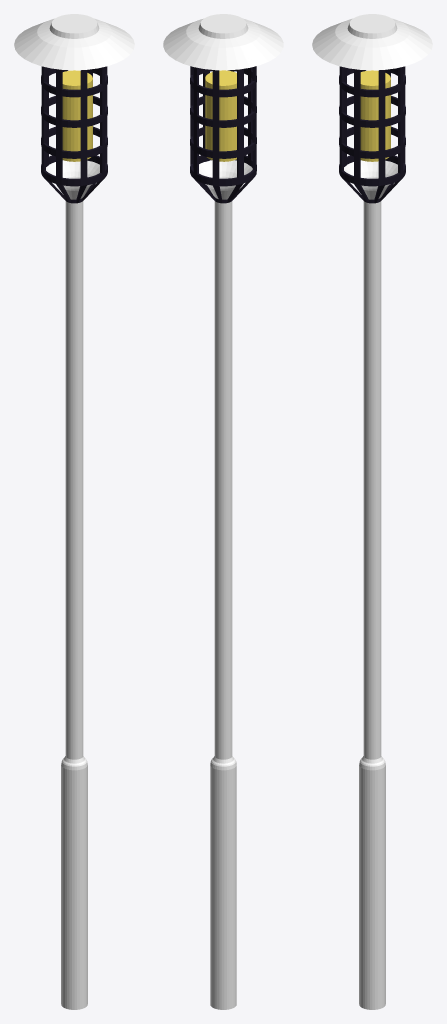
File: lamp_01.glb
3 renders of one model, left to right at view 1: azimuth 90°, elevation 25°; view 2: azimuth 150°, elevation 25°; view 3: azimuth 270°, elevation 25°, orthographic.
Parts seen in each view (by area): view 1: Cylinder, Cylinder.002; view 2: Cylinder, Cylinder.002; view 3: Cylinder, Cylinder.002.
Part boxes in pixels (bbox=[...]): Cylinder: bbox=[14, 14, 134, 1009]; Cylinder.002: bbox=[62, 70, 92, 161]; Cylinder: bbox=[163, 14, 283, 1009]; Cylinder.002: bbox=[205, 70, 236, 161]; Cylinder: bbox=[312, 14, 432, 1009]; Cylinder.002: bbox=[360, 70, 390, 161].
Bounding box in the file's own units: 0.8535 × 7.64 × 0.8535.
1 material, 1 textured.
